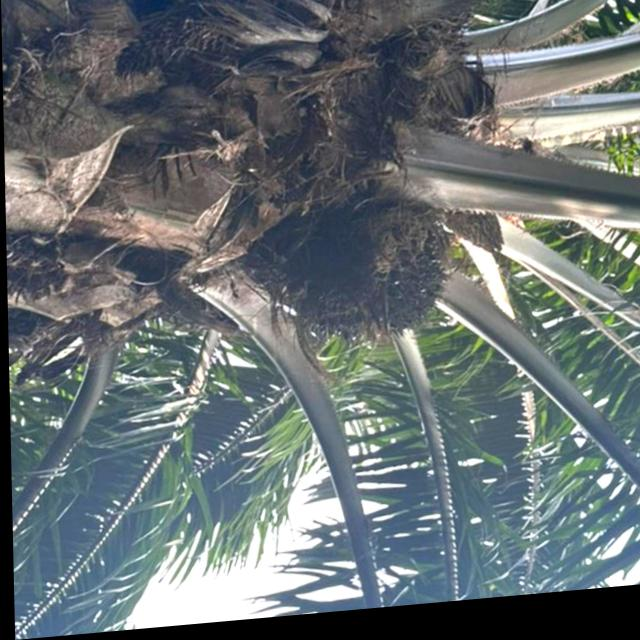unripe: (281, 188, 456, 365)
